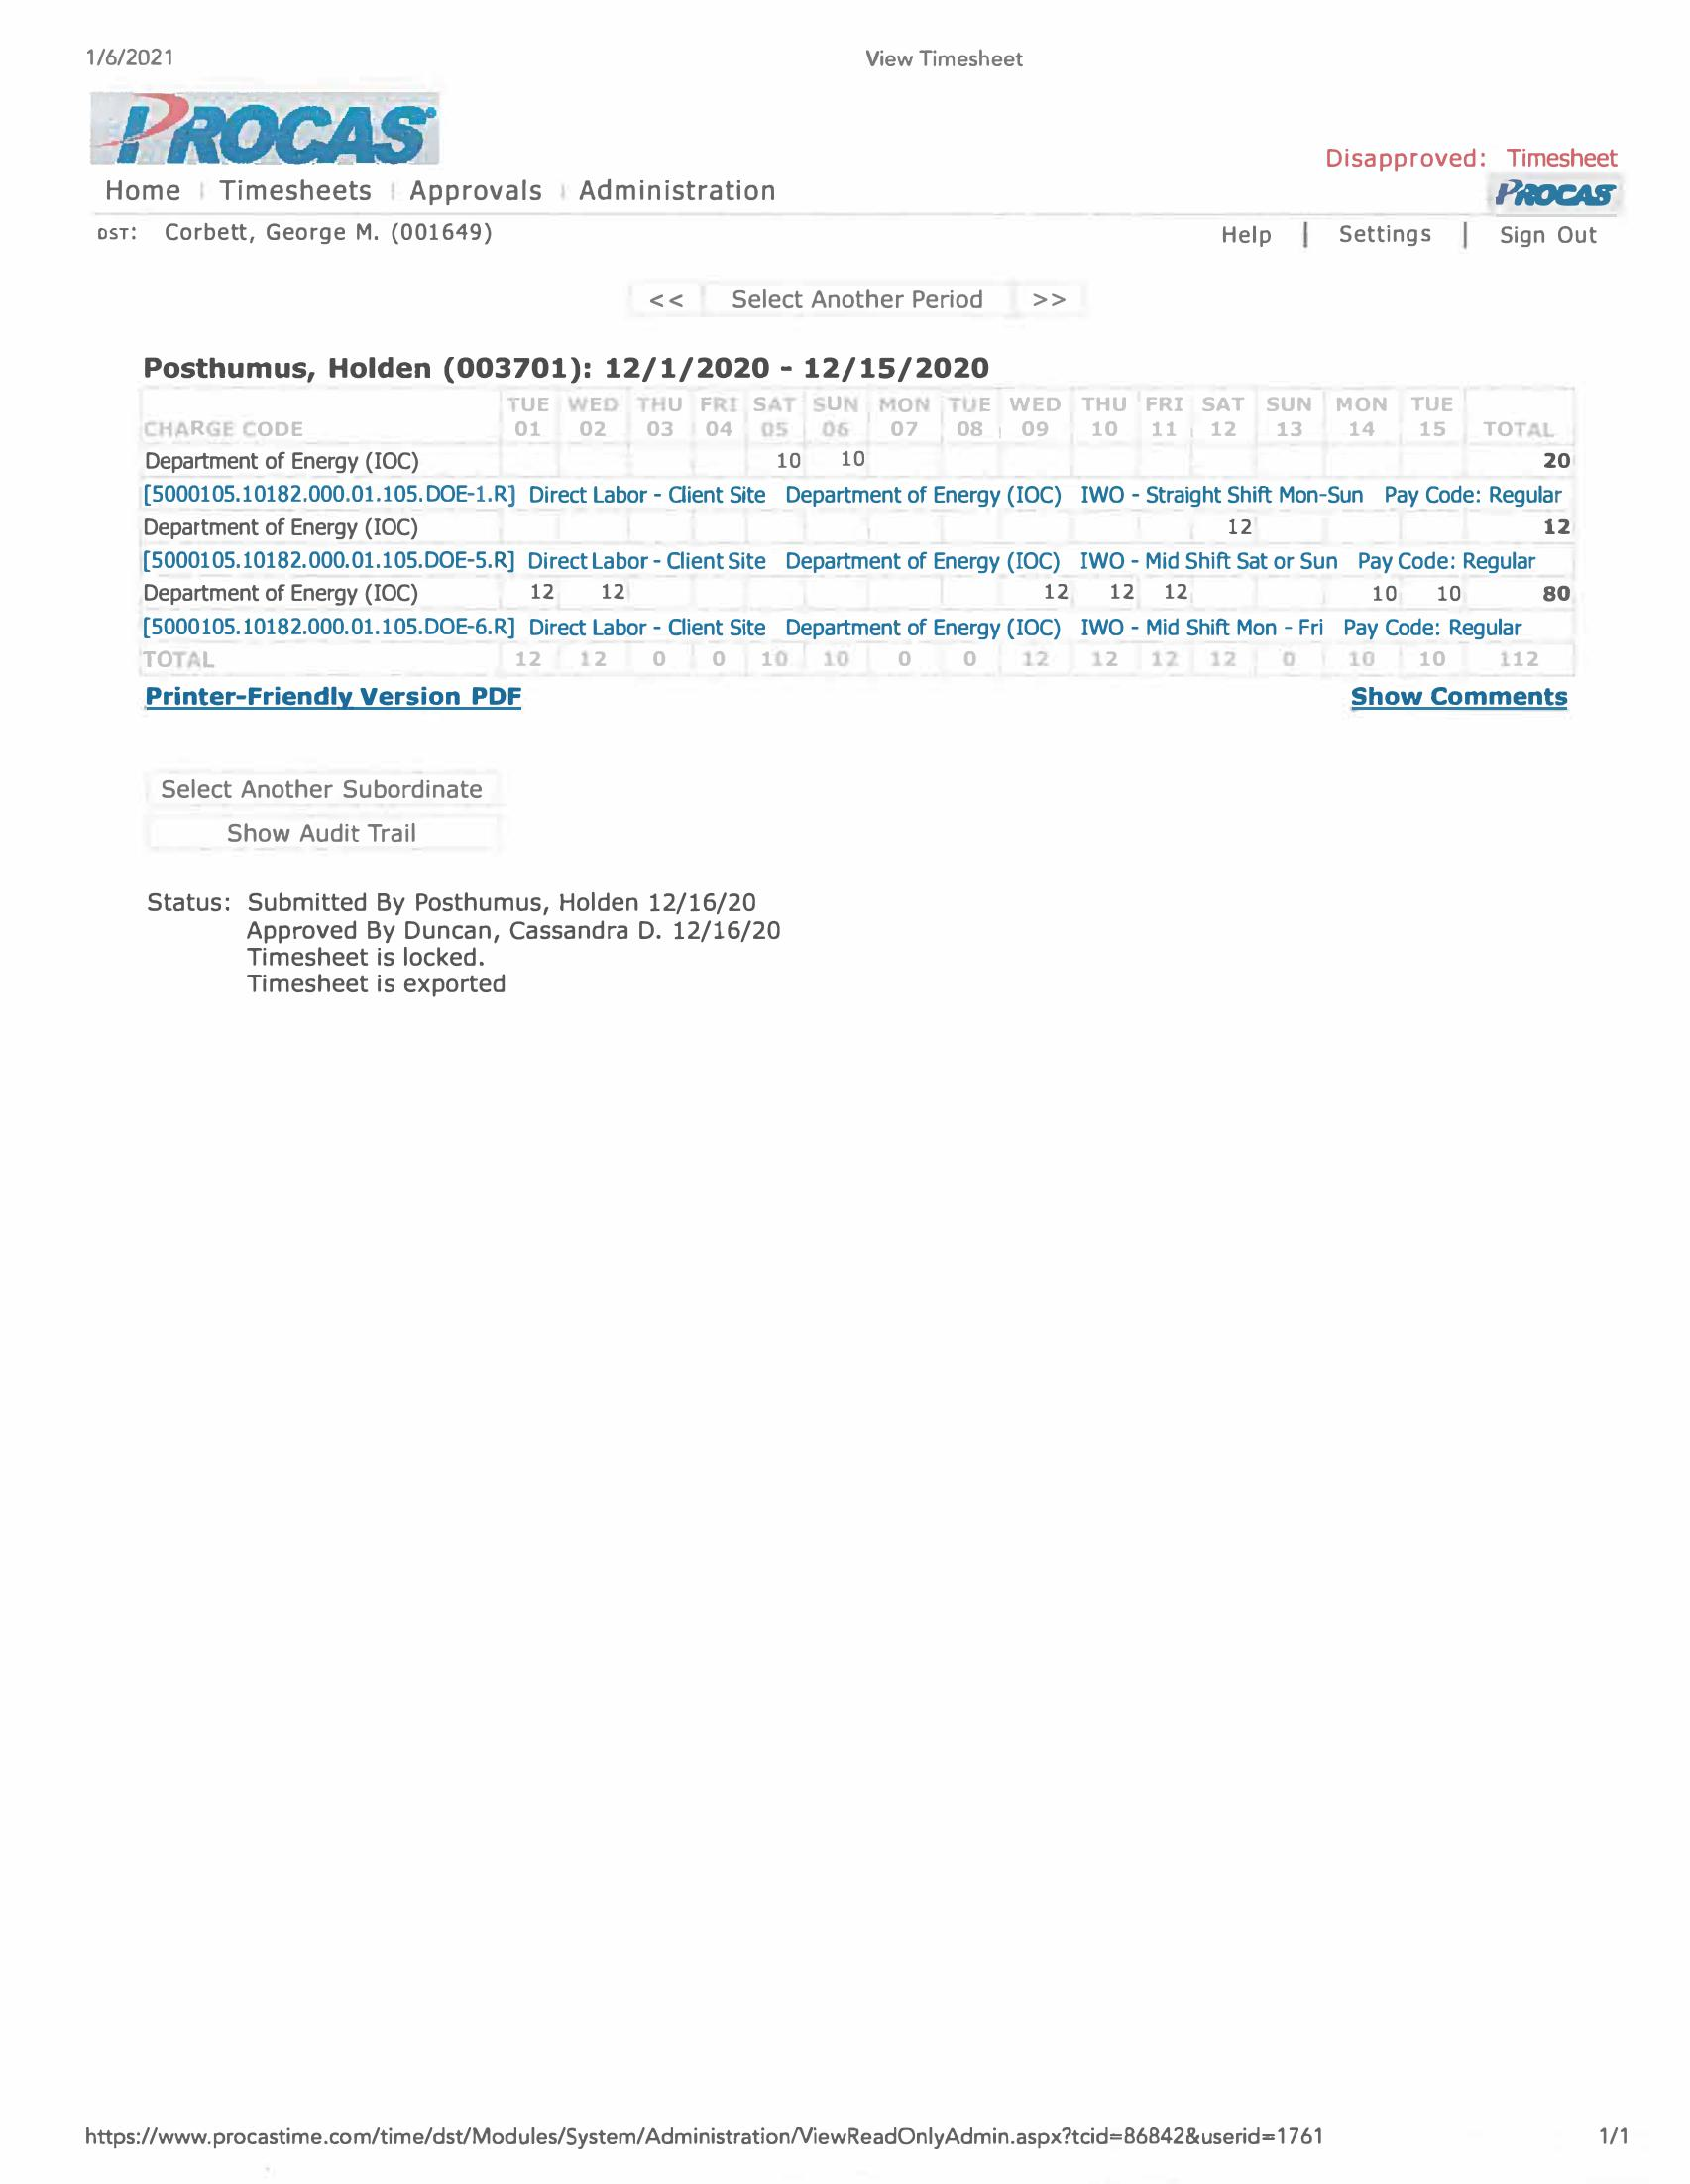table: (129, 385, 1589, 682)
